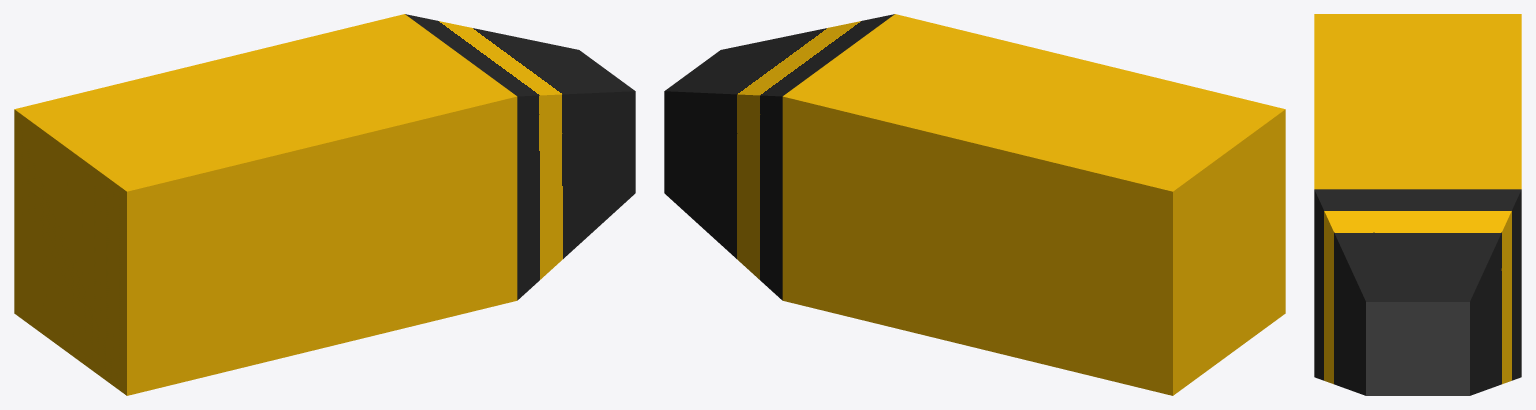
The model's file is shell.fbx.
The picture shows the model from 3 angles, left to right: view 1: azimuth 30°, elevation 25°; view 2: azimuth 150°, elevation 25°; view 3: azimuth 270°, elevation 25°; orthographic projection. The views are drawn at different scales.
Parts seen in each view (by area): view 1: cuboid, cuboid_1; view 2: cuboid, cuboid_1; view 3: cuboid_1, cuboid.
Boxes of the visible parts, x1,y1,x2,y2 form: cuboid: [14, 14, 517, 395]; cuboid_1: [405, 14, 635, 300]; cuboid: [782, 14, 1285, 395]; cuboid_1: [664, 14, 894, 300]; cuboid_1: [1314, 189, 1521, 395]; cuboid: [1314, 14, 1521, 189].
Bounding box in the file's own units: 17.19 × 6.25 × 6.25.
2 materials, 2 textured.
